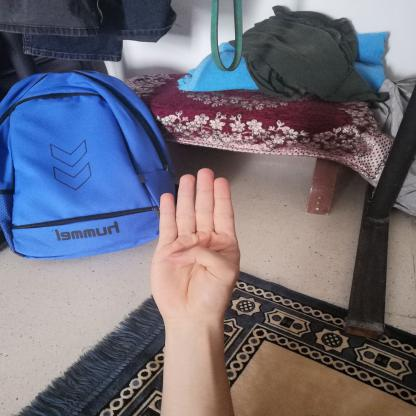KAAF: (138, 158, 258, 336)
